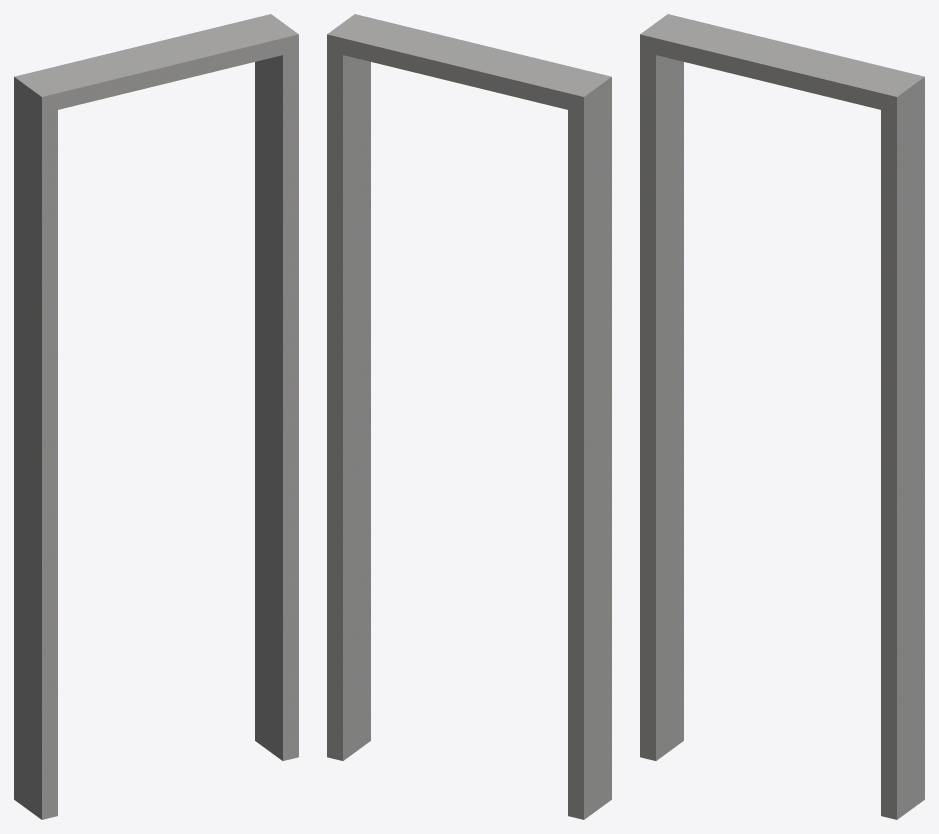
3 renders of one model, left to right at view 1: azimuth 30°, elevation 25°; view 2: azimuth 150°, elevation 25°; view 3: azimuth 330°, elevation 25°, orthographic.
Visible parts, largest first — view 1: futra_70; view 2: futra_70; view 3: futra_70.
Part boxes in pixels (x1,y1,x2,y2): futra_70: (14, 14, 298, 819); futra_70: (327, 14, 611, 819); futra_70: (640, 14, 924, 819).
Bounding box in the file's own units: 0.8 × 0.15 × 2.15.
